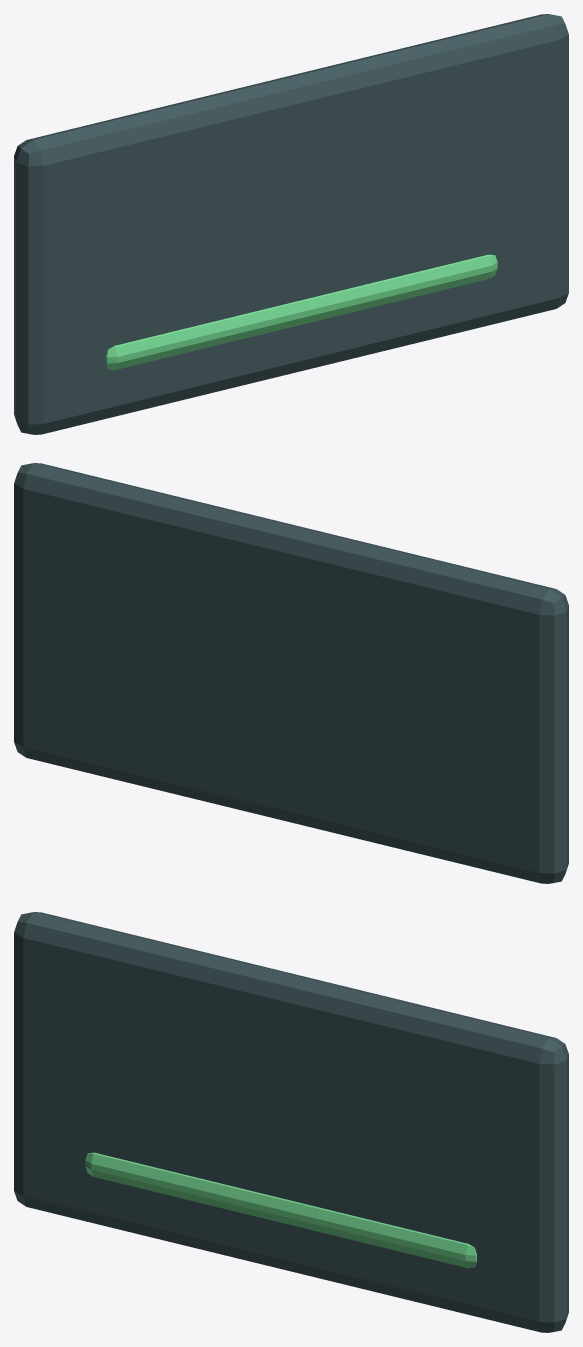
Rendered from ScorePopUp.fbx.
3 views of the same model, one above another, from view 1: azimuth 30°, elevation 25°; view 2: azimuth 150°, elevation 25°; view 3: azimuth 330°, elevation 25° (orthographic).
Visible parts, largest first — view 1: Popup, Accent; view 2: Popup; view 3: Popup, Accent.
Part boxes in pixels (x1=…): Popup: x1=14, y1=14, x2=568, y2=434; Accent: x1=106, y1=254, x2=497, y2=370; Popup: x1=14, y1=463, x2=568, y2=883; Popup: x1=14, y1=912, x2=568, y2=1332; Accent: x1=85, y1=1152, x2=476, y2=1268.
Size of the model in its own units: 0.86 by 0.44 by 0.0625.
